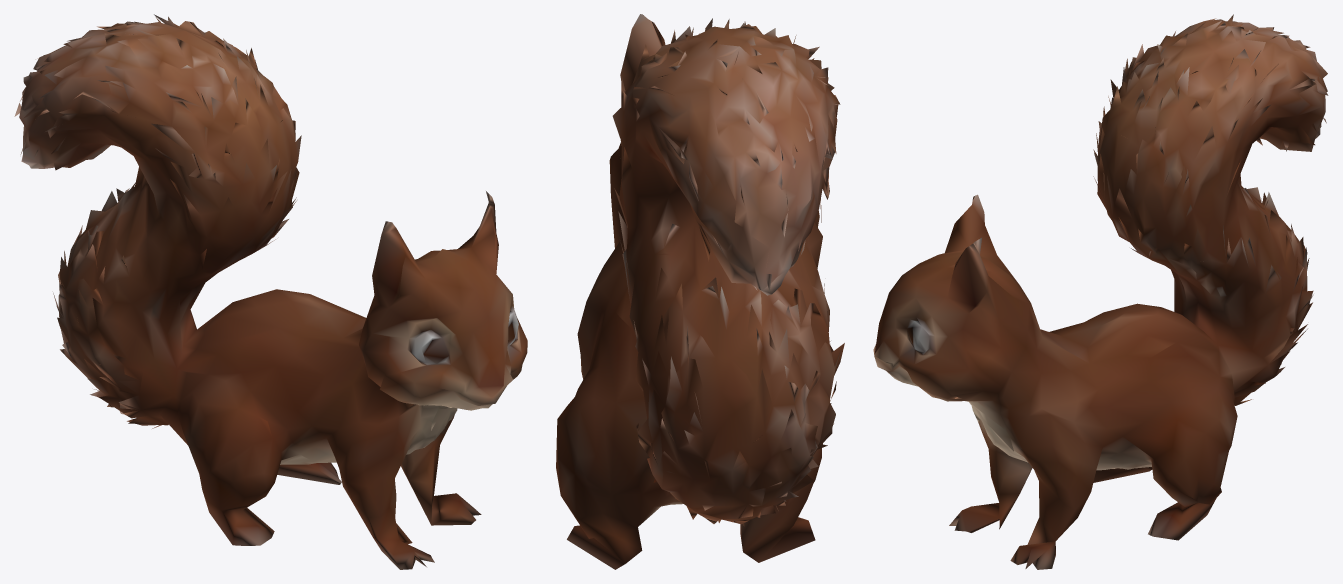
The model's file is squirrel.glb.
3 renders of one model, left to right at view 1: azimuth 30°, elevation 25°; view 2: azimuth 150°, elevation 25°; view 3: azimuth 270°, elevation 25°, orthographic. The views are drawn at different scales.
Bounding box in the file's own units: 1.38 × 1.88 × 1.76.
